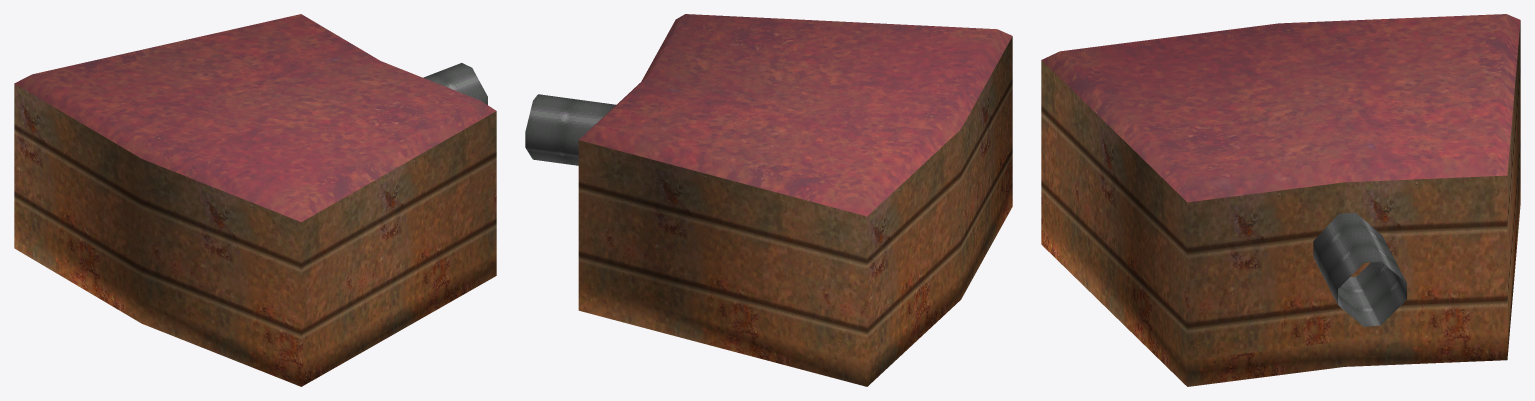
Rendered from BuoyBowlMovingPartsA.fbx.
3 renders of one model, left to right at view 1: azimuth 30°, elevation 25°; view 2: azimuth 150°, elevation 25°; view 3: azimuth 270°, elevation 25°, orthographic. The views are drawn at different scales.
Visible parts, largest first — view 1: FloatyLandPlanet.003, FloatyLandPlanet.001, FloatyLandPlanet.000; view 2: FloatyLandPlanet.003, FloatyLandPlanet.001, FloatyLandPlanet.000; view 3: FloatyLandPlanet.003, FloatyLandPlanet.001, FloatyLandPlanet.000.
Part boxes in pixels (<box>): FloatyLandPlanet.003: <box>14,84,496,386</box>; FloatyLandPlanet.001: <box>14,14,496,221</box>; FloatyLandPlanet.000: <box>423,63,487,104</box>; FloatyLandPlanet.003: <box>578,36,1012,386</box>; FloatyLandPlanet.001: <box>579,14,1012,216</box>; FloatyLandPlanet.000: <box>525,94,616,165</box>; FloatyLandPlanet.003: <box>1041,21,1520,386</box>; FloatyLandPlanet.001: <box>1042,14,1520,202</box>; FloatyLandPlanet.000: <box>1313,213,1406,326</box>.
Size of the model in its own units: 56448 by 24166 by 53324.
Materials: 3 (3 with a texture image).
